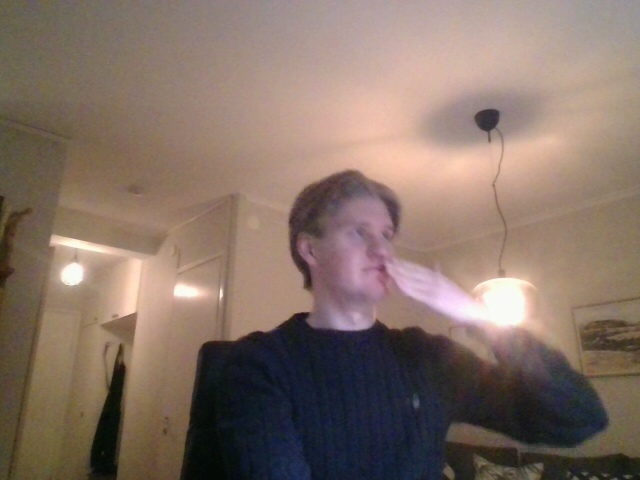ThankYou: (362, 258, 480, 326)
